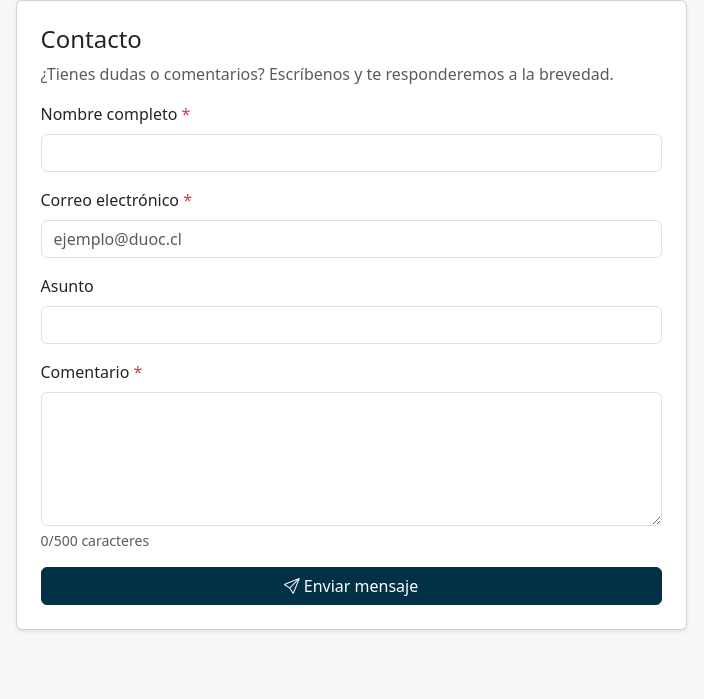
Test case: Página Contacto › muestra error de formato de correo
The width and height of the screenshot is (704, 699).
Type "correo-malo" into the field labelled "Correo electrónico *". click: (351, 239)
box: [40,220,662,258]
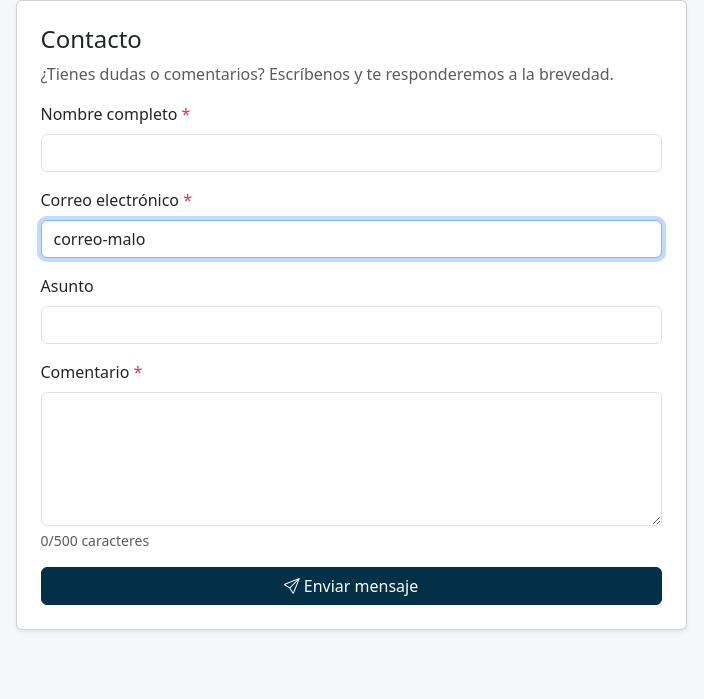
Click the button "Enviar mensaje". click: (351, 586)
box: [40,567,662,605]
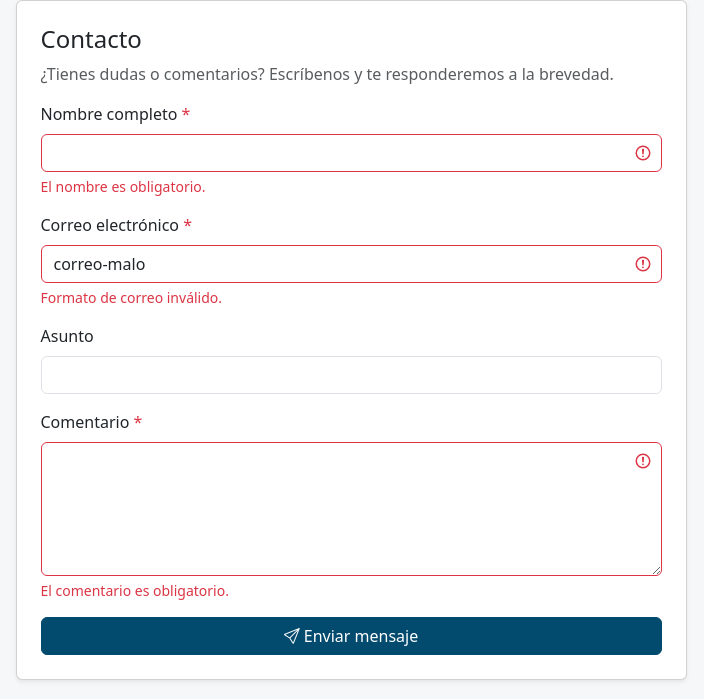
Now the text "Formato de correo inválido." is shown, box [40,288,222,307]
